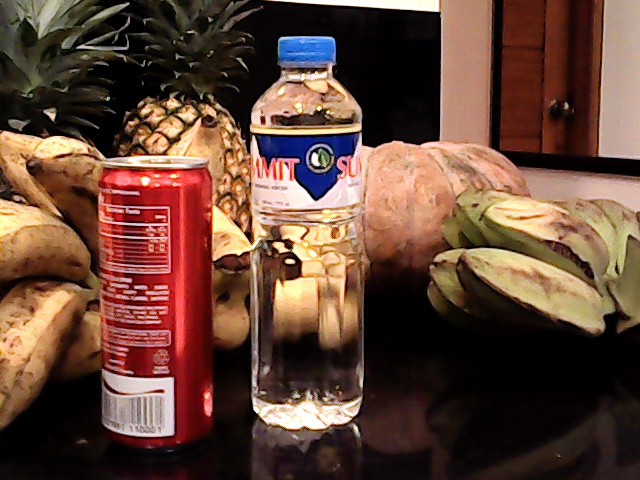Cola: (92, 154, 218, 458)
Summit Water: (234, 25, 382, 423)
